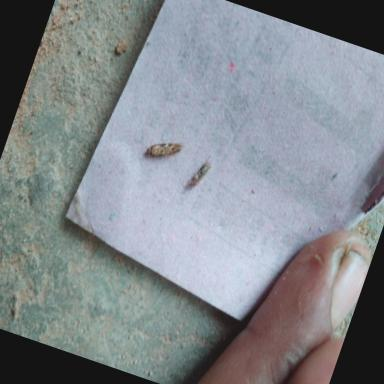pbw: (146, 134, 185, 166), (188, 152, 214, 192)
